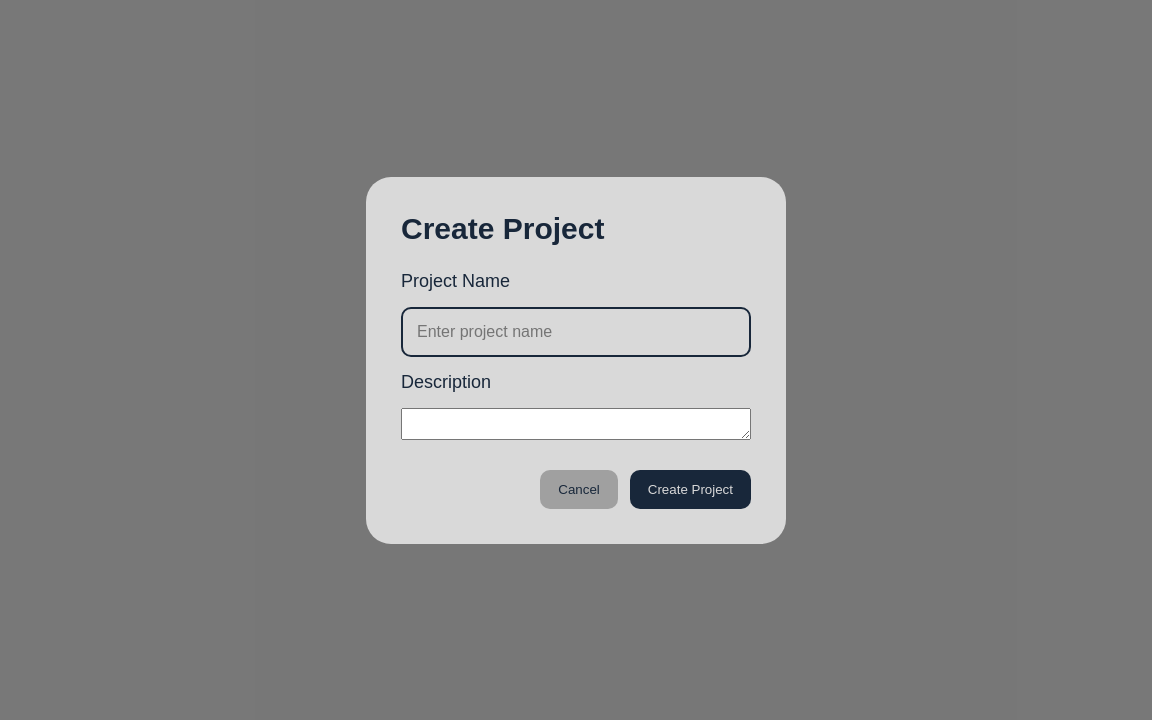
Test: CreateProjectForm › rejects an empty project name
Click the button "Create Project" at [690, 489], box [630, 470, 751, 508]
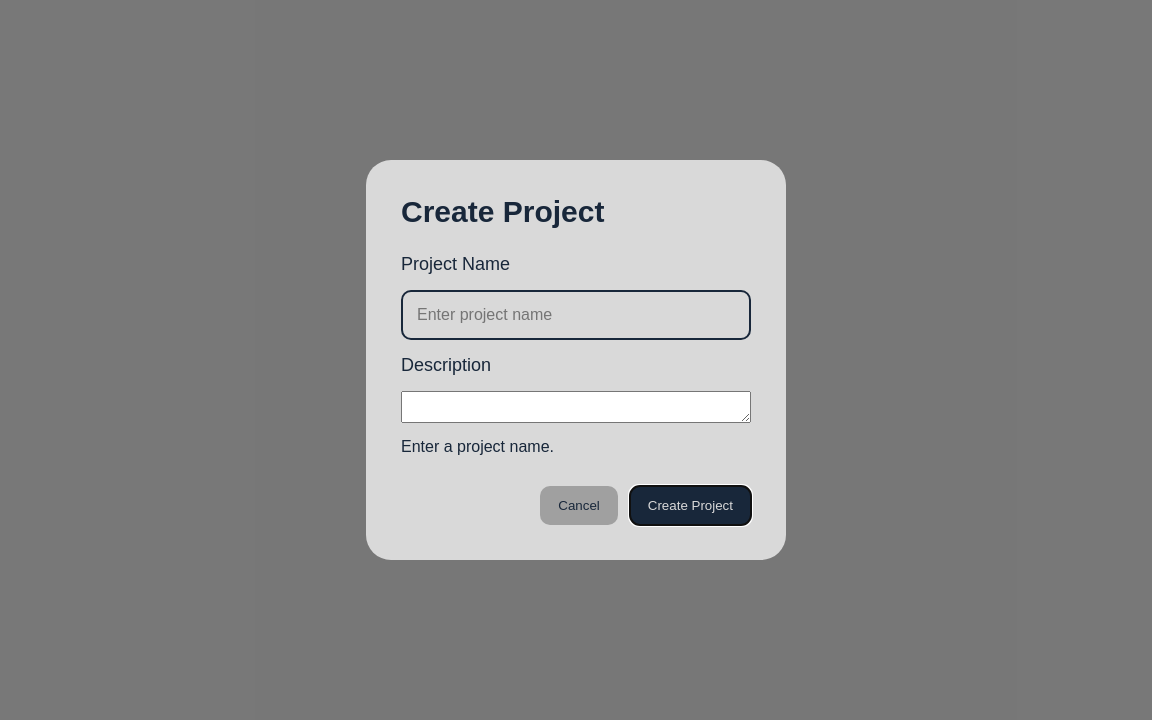
Expected: the message reads "Enter a project name.", [401, 438, 554, 455]
